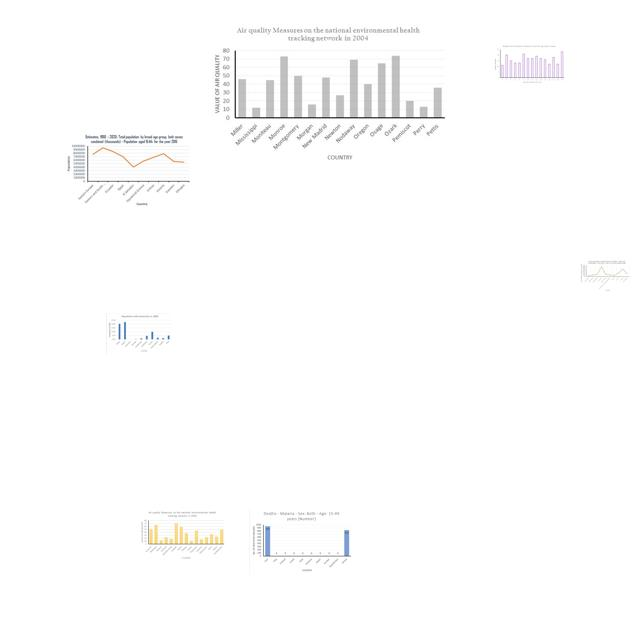Graph: (208, 24, 451, 165), (65, 132, 192, 207), (249, 509, 353, 575), (139, 510, 226, 561), (493, 44, 566, 85), (106, 313, 173, 354), (580, 260, 630, 292)
